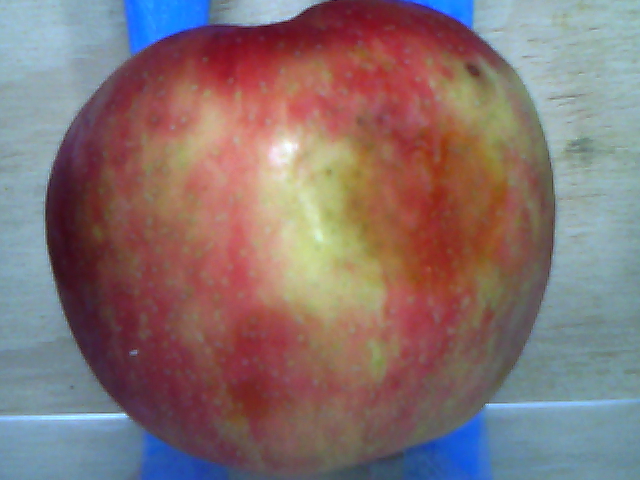bruise: (347, 114, 514, 295)
